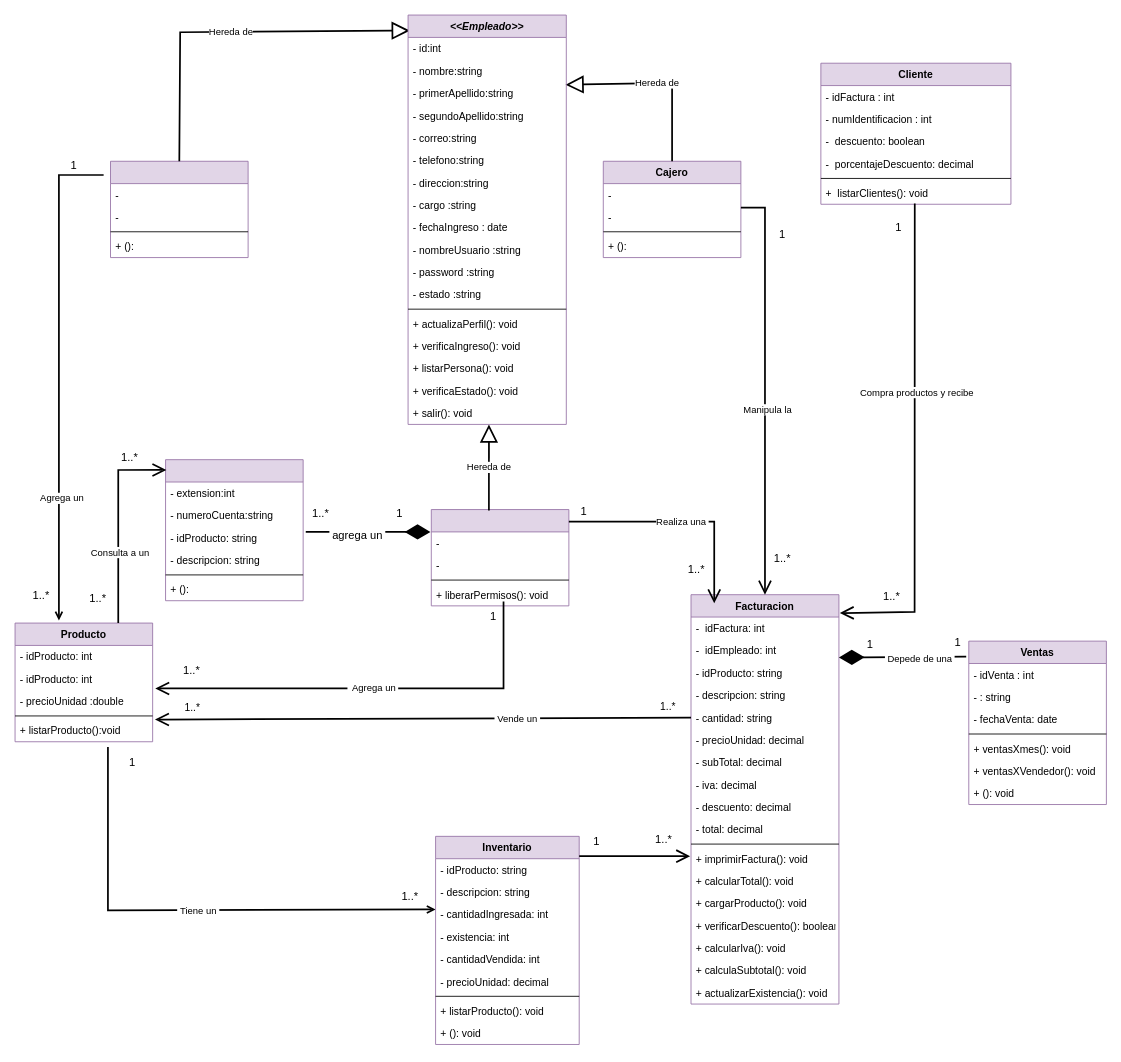
The diagram is 1121 pixels wide and 1062 high, and some of its shapes have lost their labels. The box of each missing label's shape, as (x1, y1, x2, y2) in pixels:
Administrador: (430, 509, 569, 606)
Bodeguero: (110, 160, 248, 258)
Proveedor: (165, 459, 303, 601)
